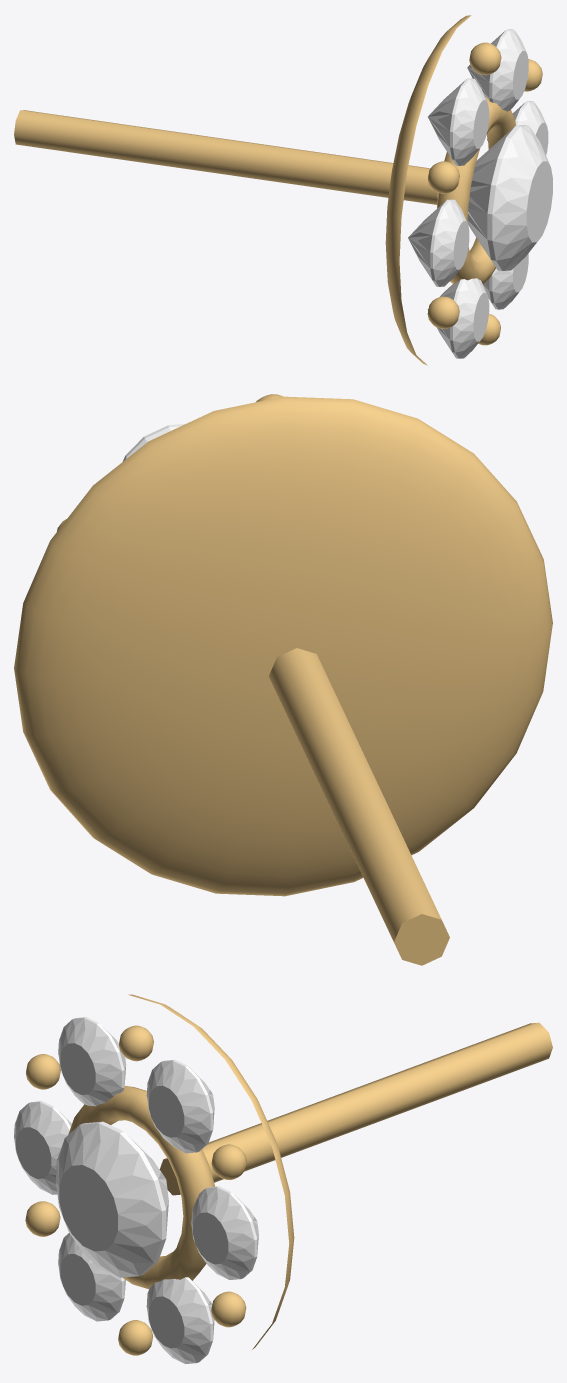
The model's file is nosepin-diamond.glb.
The picture shows the model from 3 angles, top to bottom: view 1: azimuth 30°, elevation 25°; view 2: azimuth 150°, elevation 25°; view 3: azimuth 270°, elevation 25°; orthographic projection. The views are drawn at different scales.
Visible parts, largest first — view 1: nosepin-diamond_gold18k, nosepin-diamond_diamond; view 2: nosepin-diamond_gold18k; view 3: nosepin-diamond_diamond, nosepin-diamond_gold18k.
Part boxes in pixels (<box>): nosepin-diamond_gold18k: <box>14,15,542,365</box>; nosepin-diamond_diamond: <box>408,29,552,358</box>; nosepin-diamond_gold18k: <box>14,394,552,965</box>; nosepin-diamond_diamond: <box>14,1017,258,1363</box>; nosepin-diamond_gold18k: <box>25,994,552,1355</box>.
Size of the model in its own units: 0.6237 by 0.48 by 0.6627.
